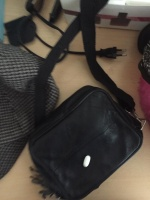Centik Buskopan: (82, 154, 91, 168)
